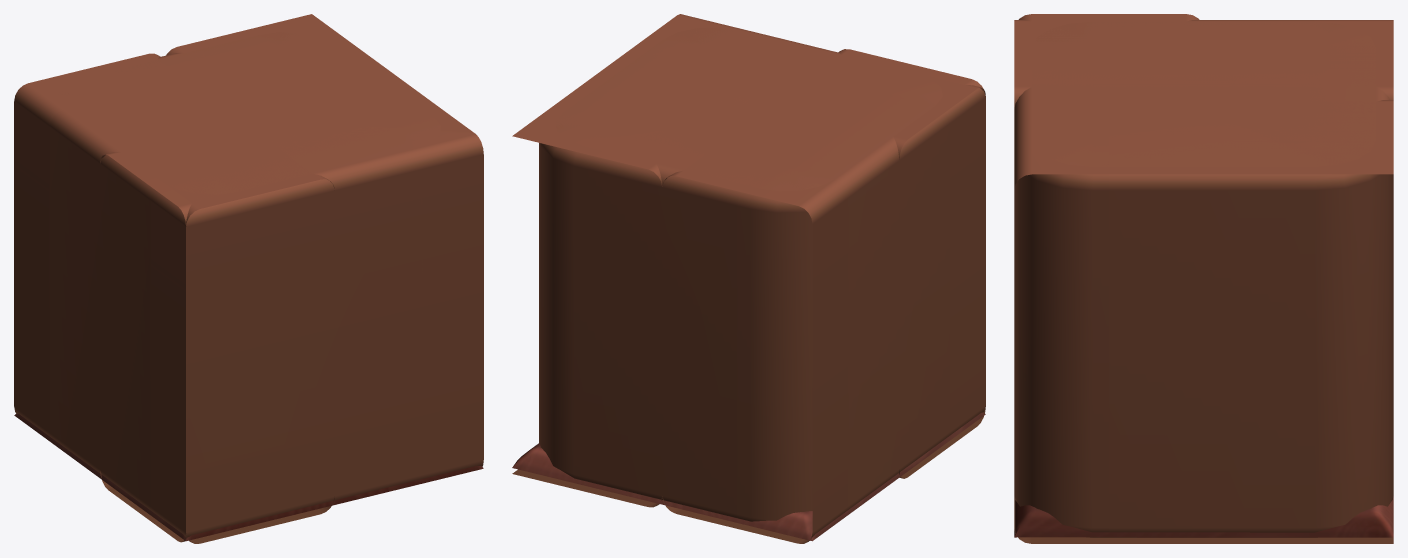
The model's file is Map.fbx.
The picture shows the model from 3 angles, left to right: view 1: azimuth 30°, elevation 25°; view 2: azimuth 150°, elevation 25°; view 3: azimuth 270°, elevation 25°; orthographic projection. The views are drawn at different scales.
Visible parts, largest first — view 1: Wall2, Wall1, Wall, Wall3, Floor_Geo; view 2: Wall1, Wall3, Wall, Wall2, Floor_Geo; view 3: Wall3, Wall1, Wall, Wall2, Floor_Geo.
Part boxes in pixels (x1,y1,x2,y2): Wall2: (100, 14, 483, 542); Wall1: (49, 32, 440, 510); Wall: (14, 53, 334, 543); Wall3: (97, 32, 425, 141); Floor_Geo: (14, 413, 483, 541); Wall1: (555, 27, 949, 521); Wall3: (539, 45, 815, 518); Wall: (662, 49, 985, 543); Wall2: (512, 14, 985, 507); Floor_Geo: (512, 412, 985, 541); Wall3: (1109, 60, 1393, 537); Wall1: (1014, 20, 1375, 537); Wall: (1014, 20, 1393, 108); Wall2: (1014, 14, 1393, 543); Floor_Geo: (1014, 496, 1393, 537).
Size of the model in its own units: 1 by 1.07 by 1.
2 materials, 2 textured.
